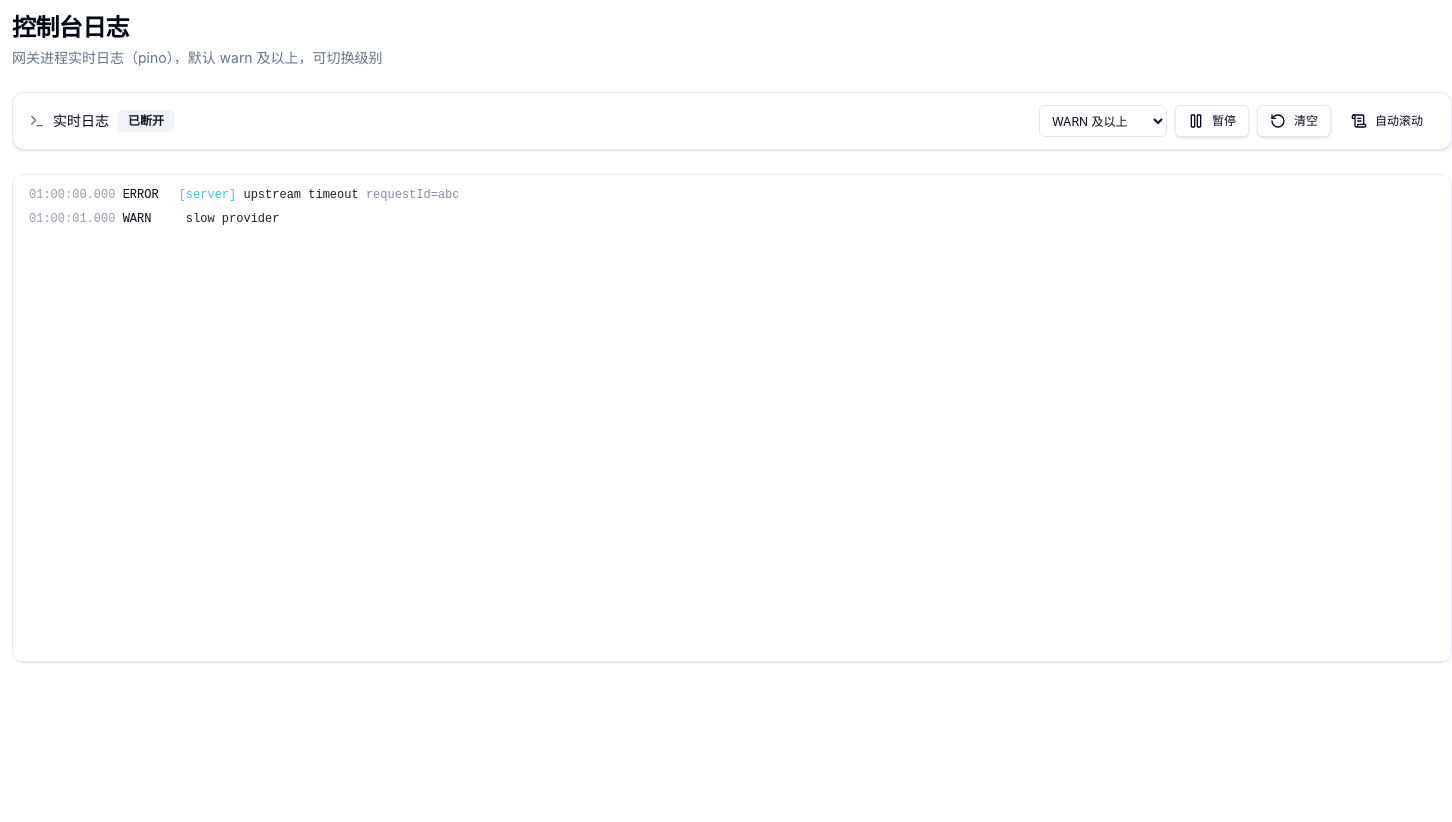
Test: ConsoleLogsPage › clears entries when 清空 clicked
Expected: the text "upstream timeout" is shown, [244,188,359,202]
Click the button "清空". click: coordinates (1294, 121)
box: [1257,105,1331,137]
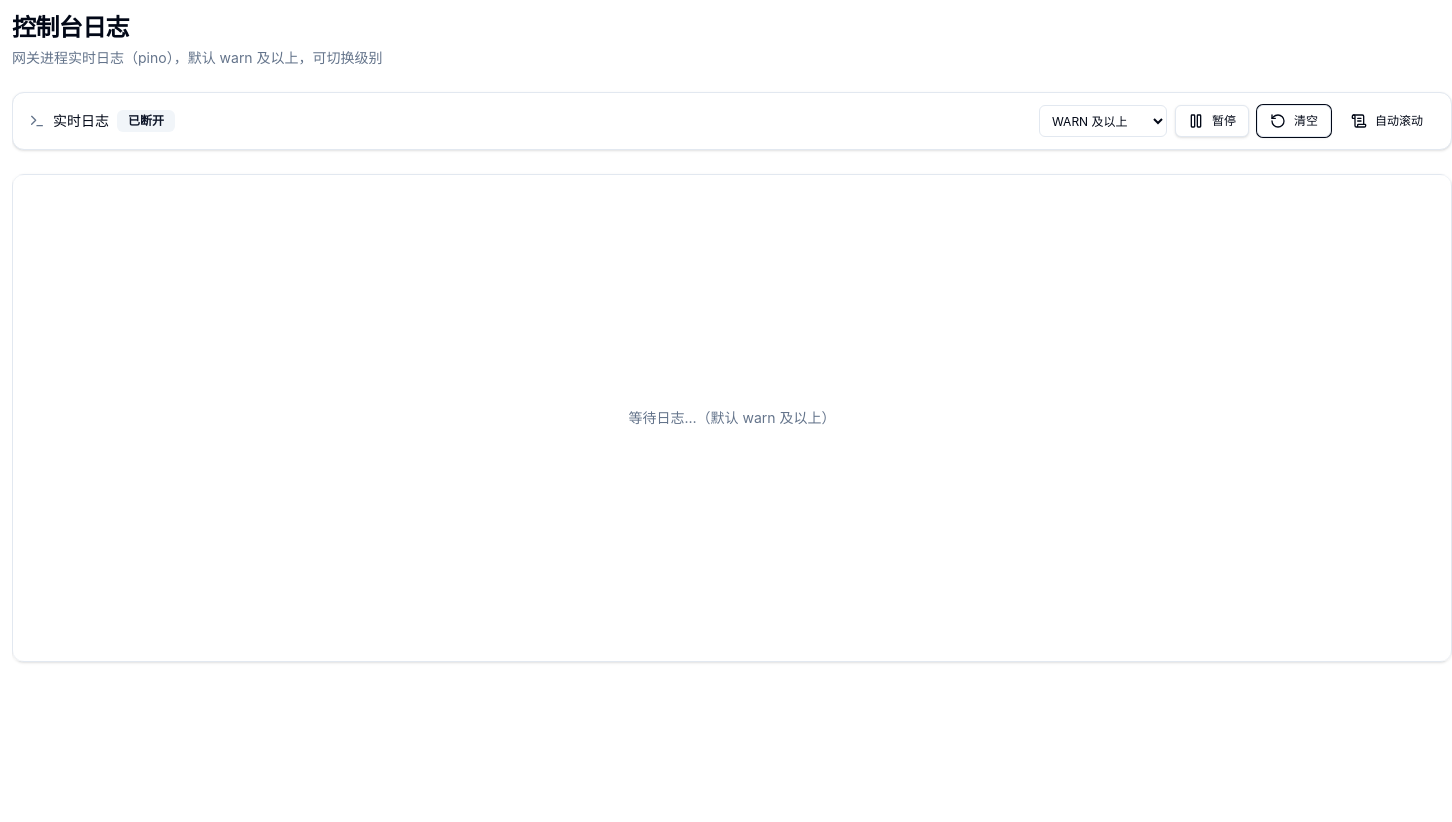
Expected: the text "upstream timeout" is gone
